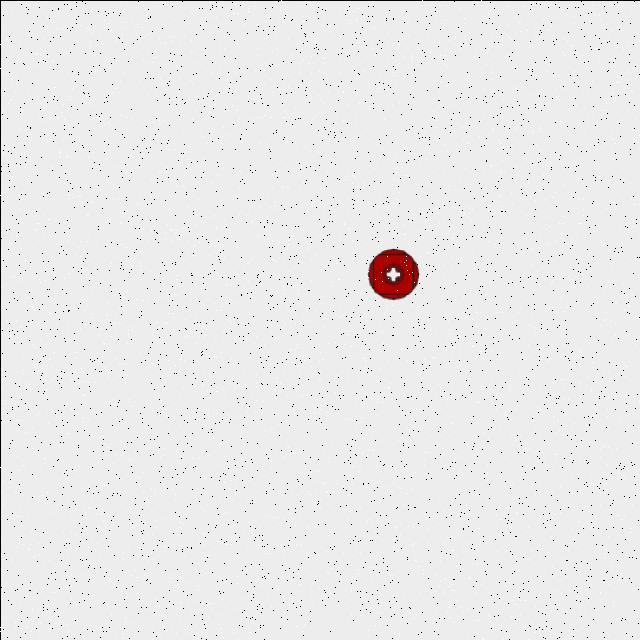4032a: (361, 242, 423, 304)
